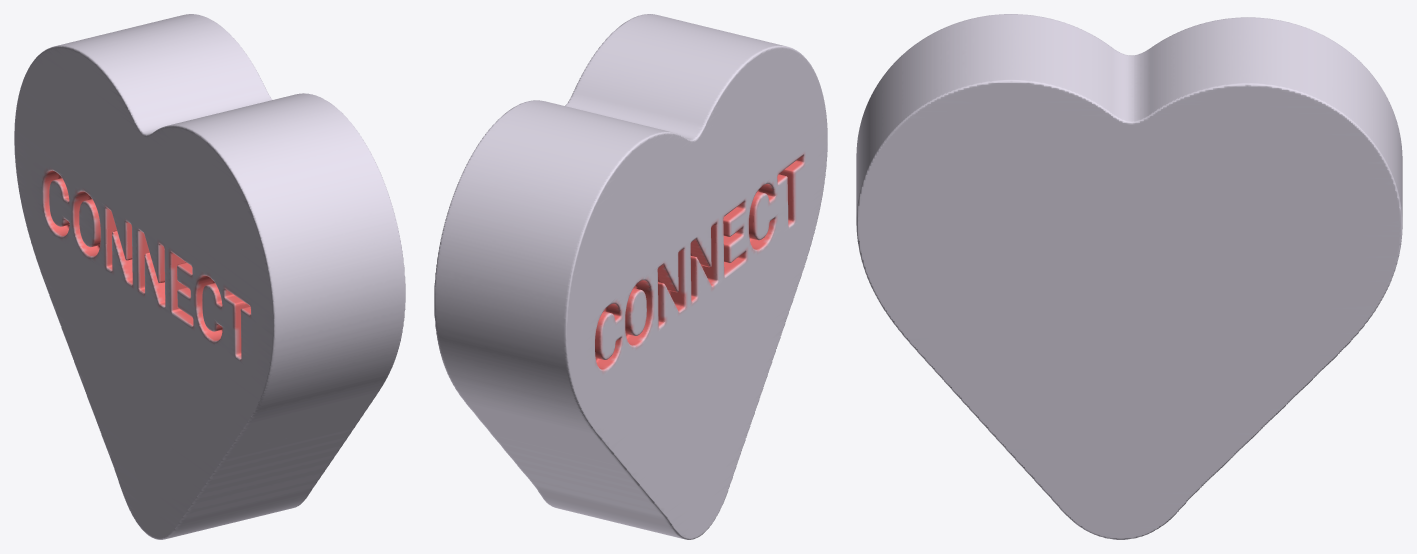
Rendered from contactHeart_compressed.glb.
3 views of the same model, side by side, from view 1: azimuth 30°, elevation 25°; view 2: azimuth 150°, elevation 25°; view 3: azimuth 270°, elevation 25° (orthographic). The views are drawn at different scales.
Bounding box in the file's own units: 66.41 × 210 × 227.
1 material, 1 textured.
